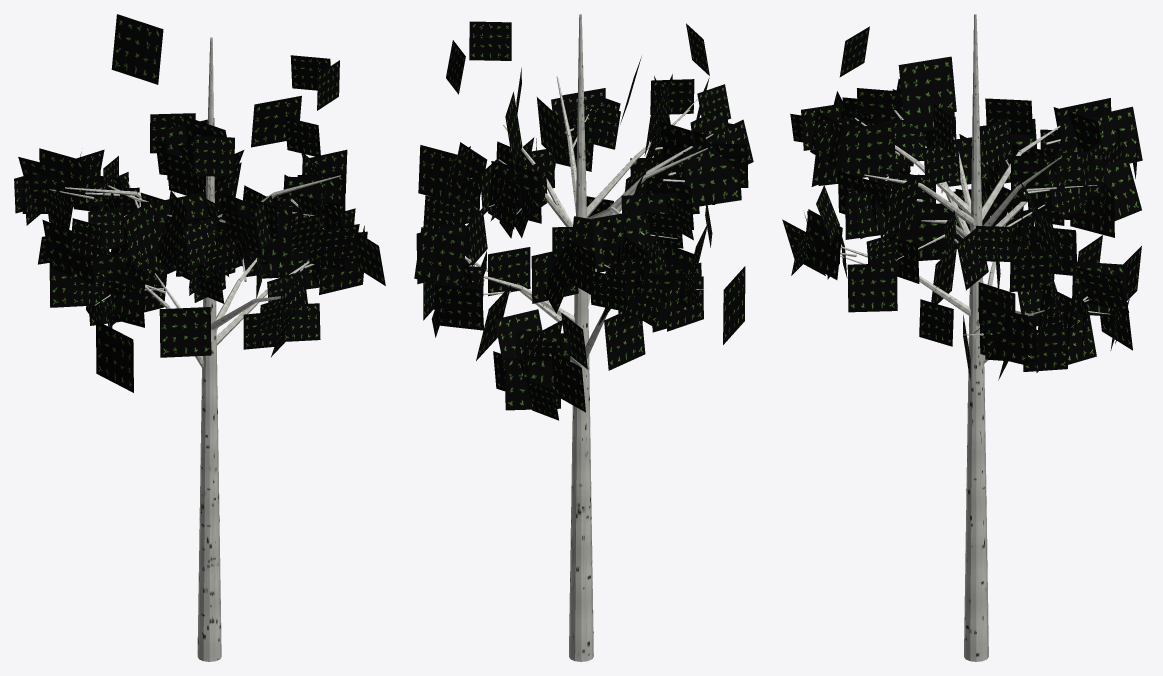
The model's file is Betula_pendula_silver_birch.glb.
3 views of the same model, side by side, from view 1: azimuth 30°, elevation 25°; view 2: azimuth 150°, elevation 25°; view 3: azimuth 270°, elevation 25° (orthographic). The views are drawn at different scales.
Visible parts, largest first — view 1: Birch_geometry_54, Birch_geometry_0, Birch_geometry_1; view 2: Birch_geometry_54, Birch_geometry_0, Birch_geometry_1; view 3: Birch_geometry_54, Birch_geometry_0, Birch_geometry_1.
Boxes of the visible parts, bbox=[...] form: Birch_geometry_54: bbox=[14, 14, 385, 392]; Birch_geometry_0: bbox=[197, 297, 221, 661]; Birch_geometry_1: bbox=[205, 37, 214, 202]; Birch_geometry_54: bbox=[414, 21, 753, 420]; Birch_geometry_0: bbox=[569, 288, 593, 661]; Birch_geometry_1: bbox=[576, 14, 586, 218]; Birch_geometry_54: bbox=[782, 26, 1142, 380]; Birch_geometry_0: bbox=[964, 217, 988, 661]; Birch_geometry_1: bbox=[970, 14, 982, 228].
Bounding box in the file's own units: 6.48 × 13 × 6.72.
2 materials, 2 textured.
